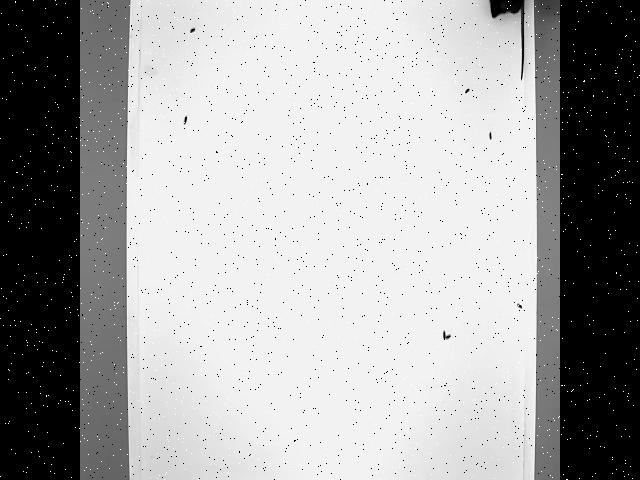Tikus: (489, 0, 527, 81)
